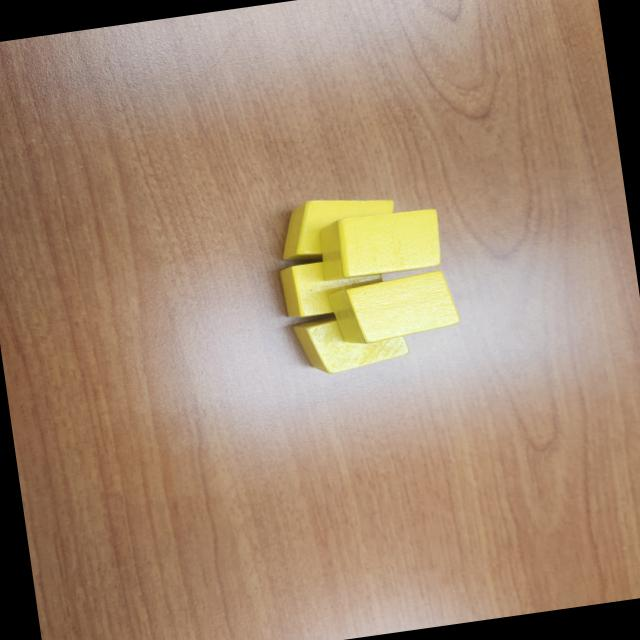yellow: (324, 269, 464, 348), (272, 188, 402, 268), (316, 205, 447, 282), (290, 306, 410, 382), (278, 252, 388, 320)
